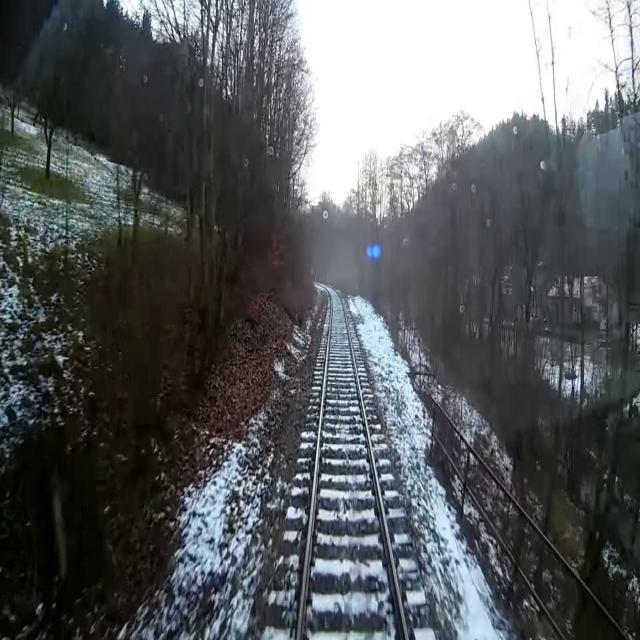rail-track: (300, 287, 405, 639)
